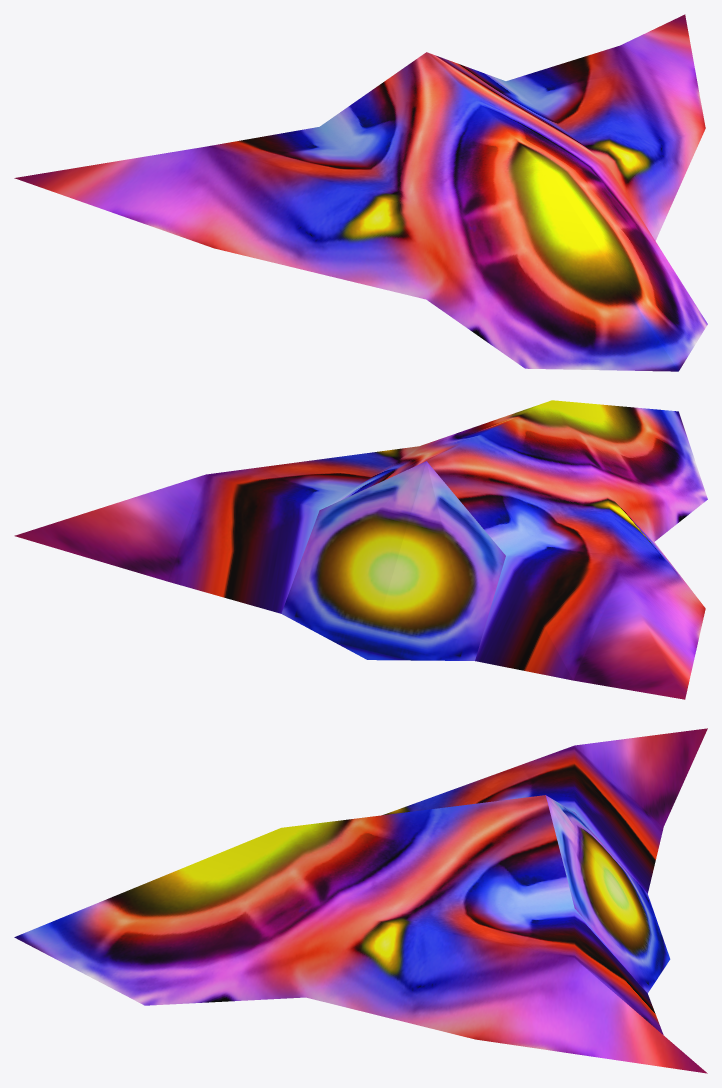
Rendered from ship-65.fbx.
3 renders of one model, top to bottom at view 1: azimuth 30°, elevation 25°; view 2: azimuth 150°, elevation 25°; view 3: azimuth 270°, elevation 25°, orthographic. The views are drawn at different scales.
Visible parts, largest first — view 1: ship-65; view 2: ship-65; view 3: ship-65.
Boxes of the visible parts, left/top/right/bottom form: ship-65: left=14, top=14, right=707, bottom=371; ship-65: left=14, top=400, right=707, bottom=699; ship-65: left=14, top=728, right=707, bottom=1073.
Bounding box in the file's own units: 38.64 × 9.89 × 32.82.
